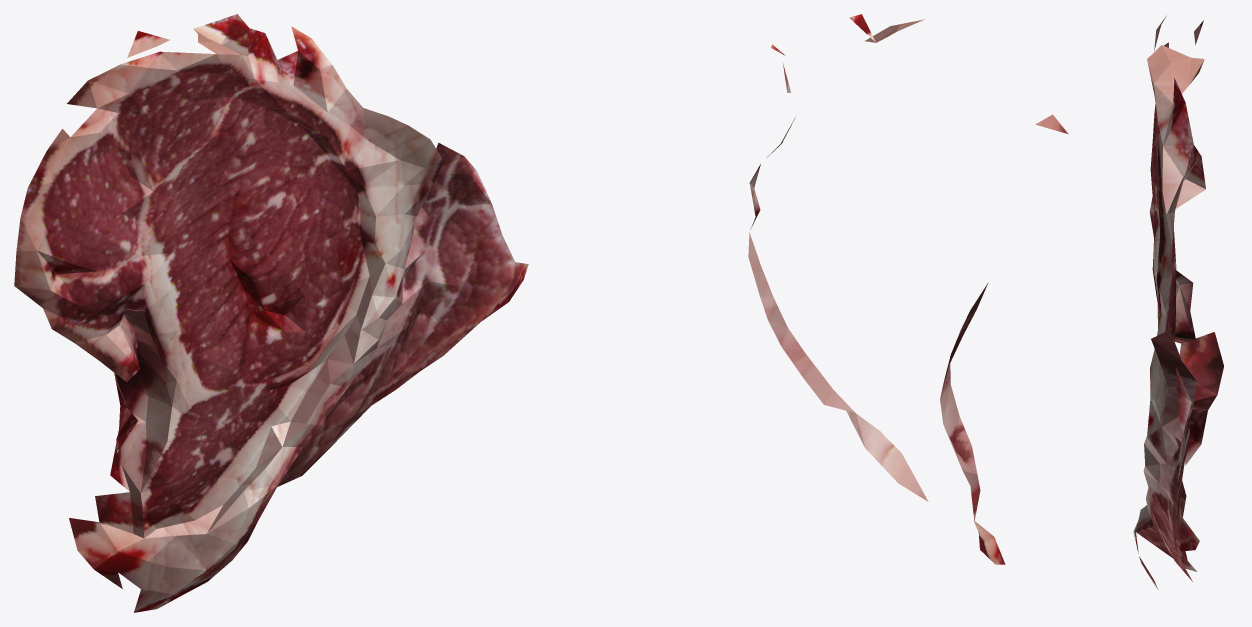
File: meat_a.glb
The picture shows the model from 3 angles, left to right: view 1: azimuth 30°, elevation 25°; view 2: azimuth 150°, elevation 25°; view 3: azimuth 270°, elevation 25°; orthographic projection.
Parts seen in each view (by area): view 1: geometry_0; view 2: geometry_0; view 3: geometry_0.
Boxes of the visible parts, <box> form: geometry_0: <box>14,14,528,612</box>; geometry_0: <box>748,14,1068,564</box>; geometry_0: <box>1133,15,1223,589</box>.
Bounding box in the file's own units: 0.2927 × 0.3044 × 0.0494.
Materials: 1 (1 with a texture image).
